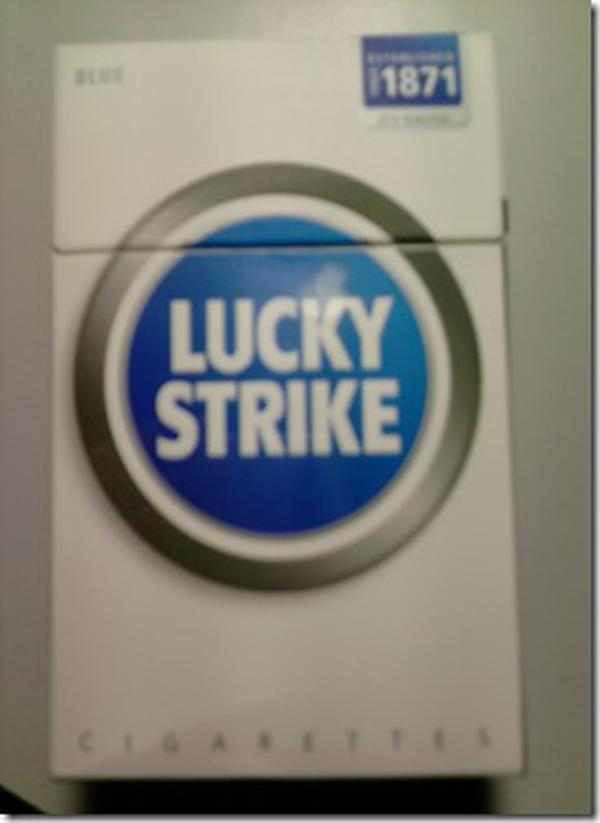lucky_strike_blue: (55, 41, 500, 766)
